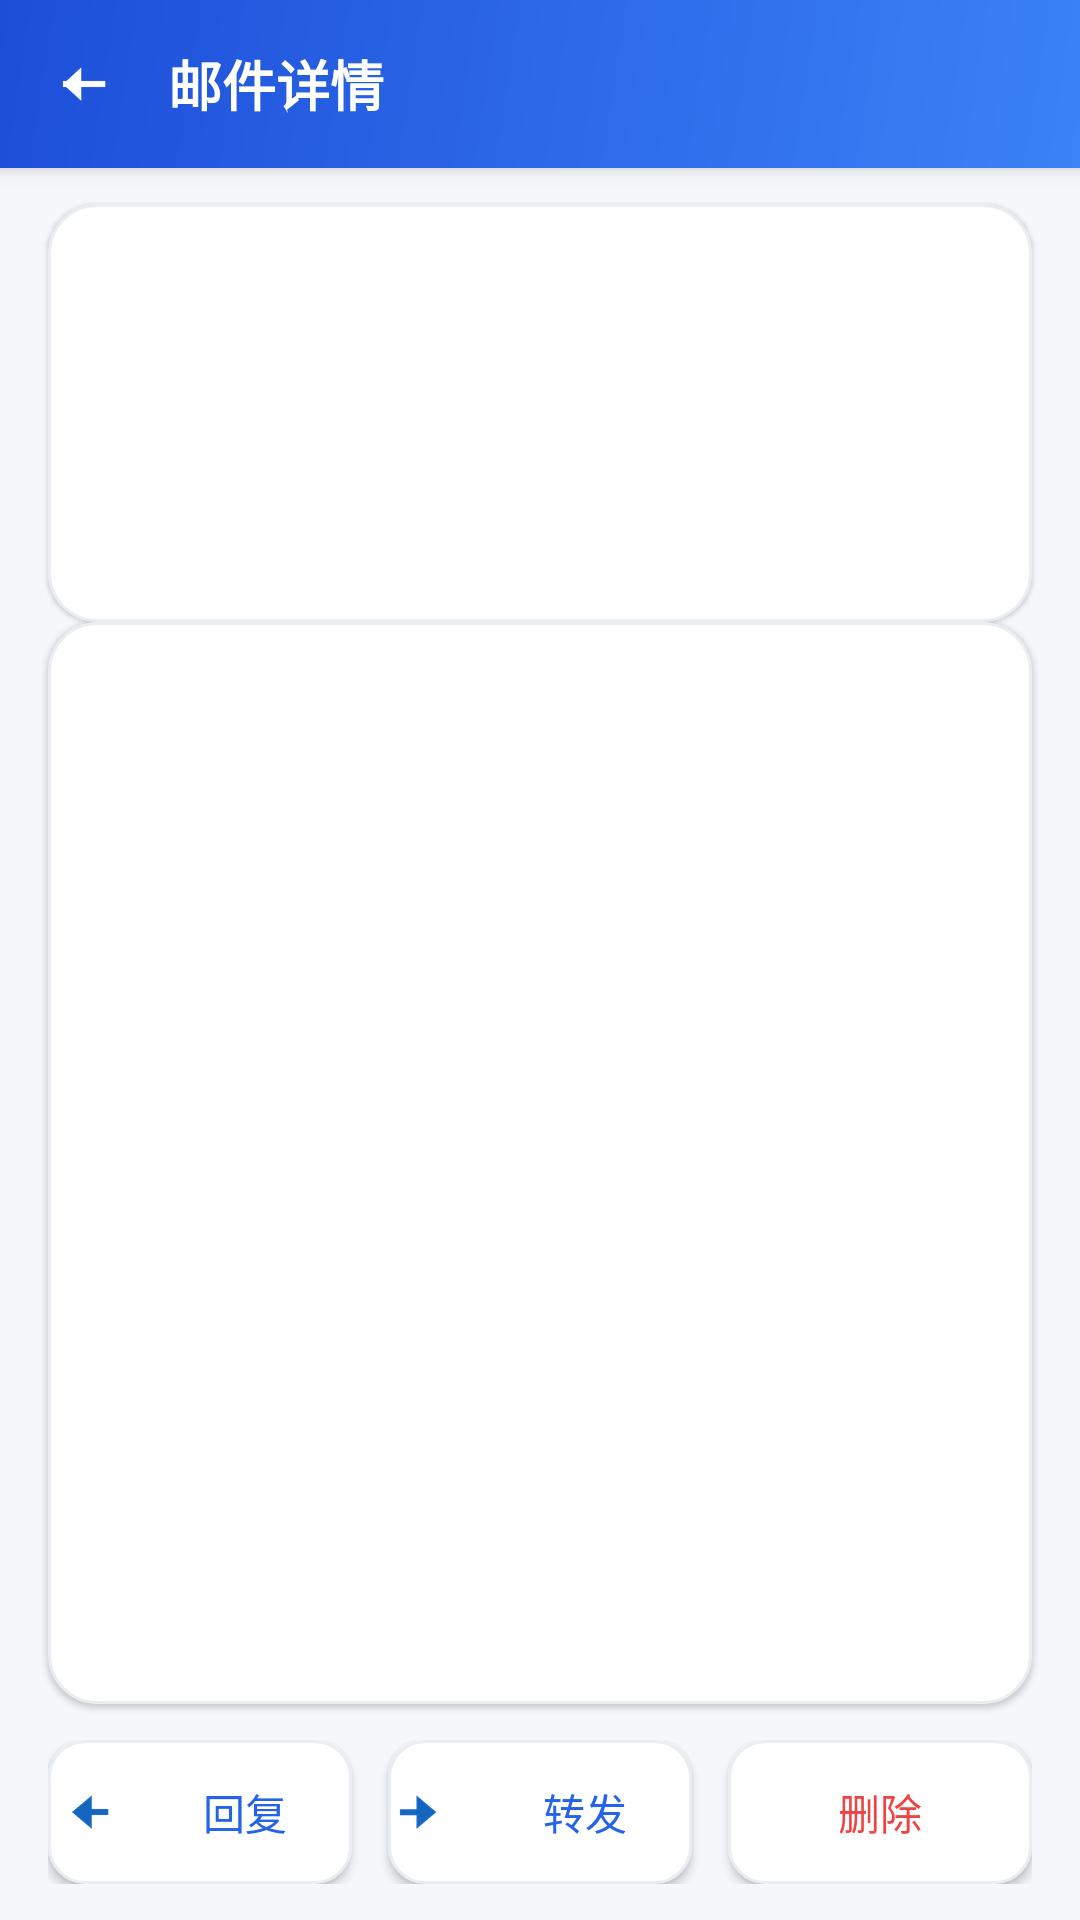

Named icons in this screenshot (1080w x 1920h) and their centers, (x,y):
返回: (84,84)
